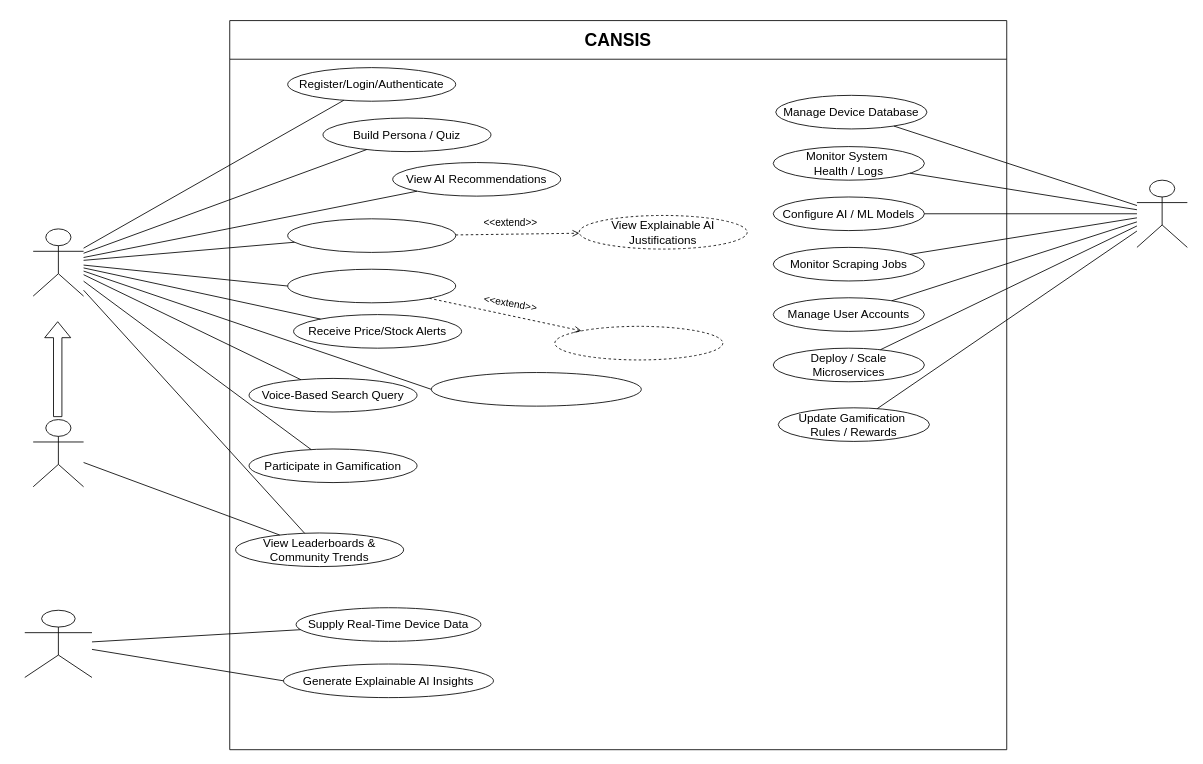
This 1203x764 diagram has some shape labels left out. Each missing label, with the centre of its shape:
Admin / Developer: point (1161, 213)
Community User: point (58, 453)
Compare Smartphones: point (371, 235)
Data Provider: point (58, 643)
End User: point (58, 262)
Perform Benchmark Analysis: point (535, 389)
View Device Details: point (371, 285)
View Device Forecasts: point (638, 343)
